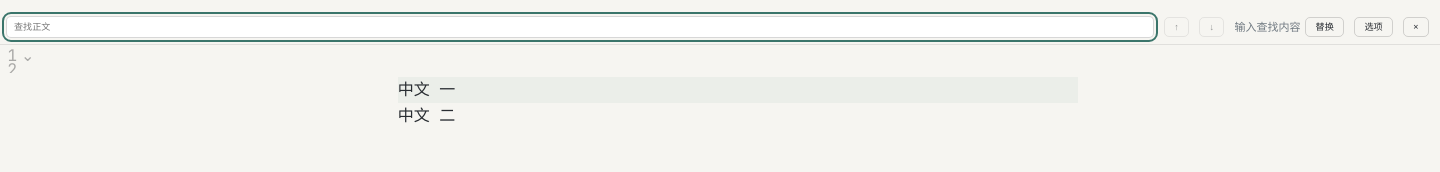
compact Chinese document search › counts hits, navigates both ways and closes with Escape without changing source
Type "中文" into the field with placeholder "查找正文" at (580, 27), box [6,16,1154,38]
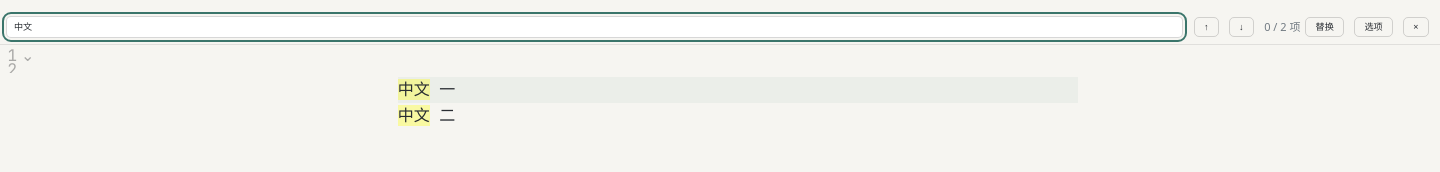
Expected: the message named "查找结果" shows "/ 2", [1264,19,1300,34]
Click the button "↓" at (1241, 27), box [1229,17,1254,37]
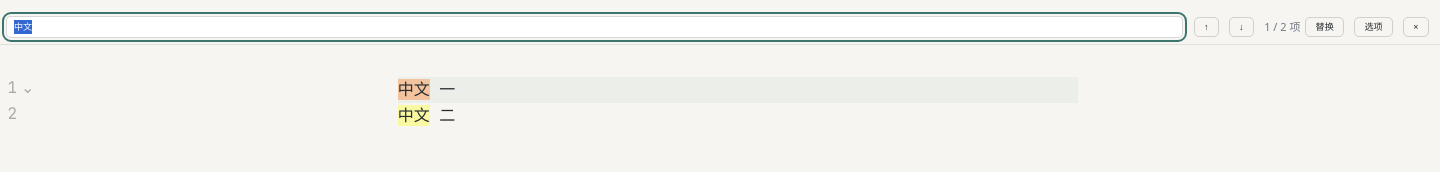
Click the button "↓" at (1241, 27), box [1229,17,1254,37]
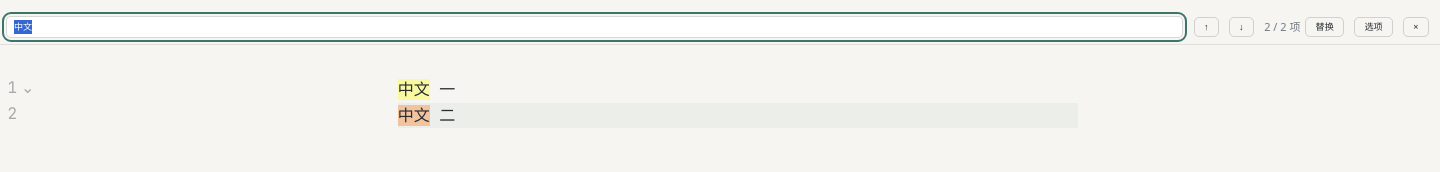
Click the button "↑" at (1206, 27), box [1194,17,1218,37]
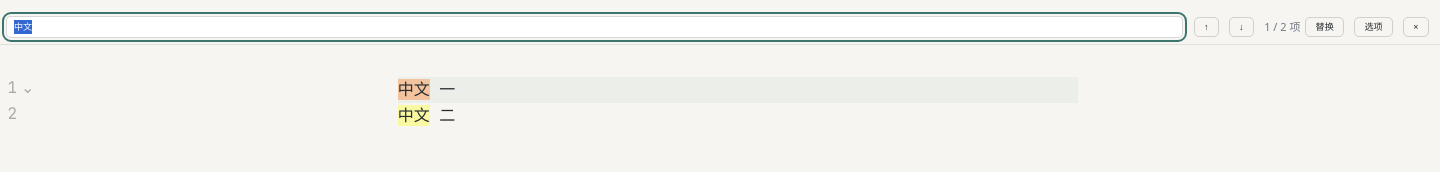
Press Escape in the field named "查找正文", box [6,16,1183,38]
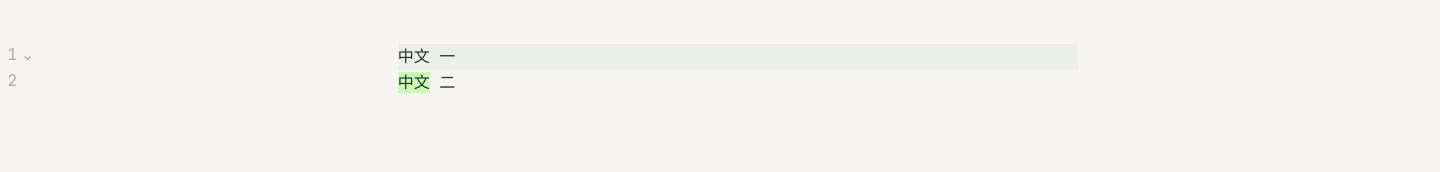
Expected: the element with class "cm-search" is gone
